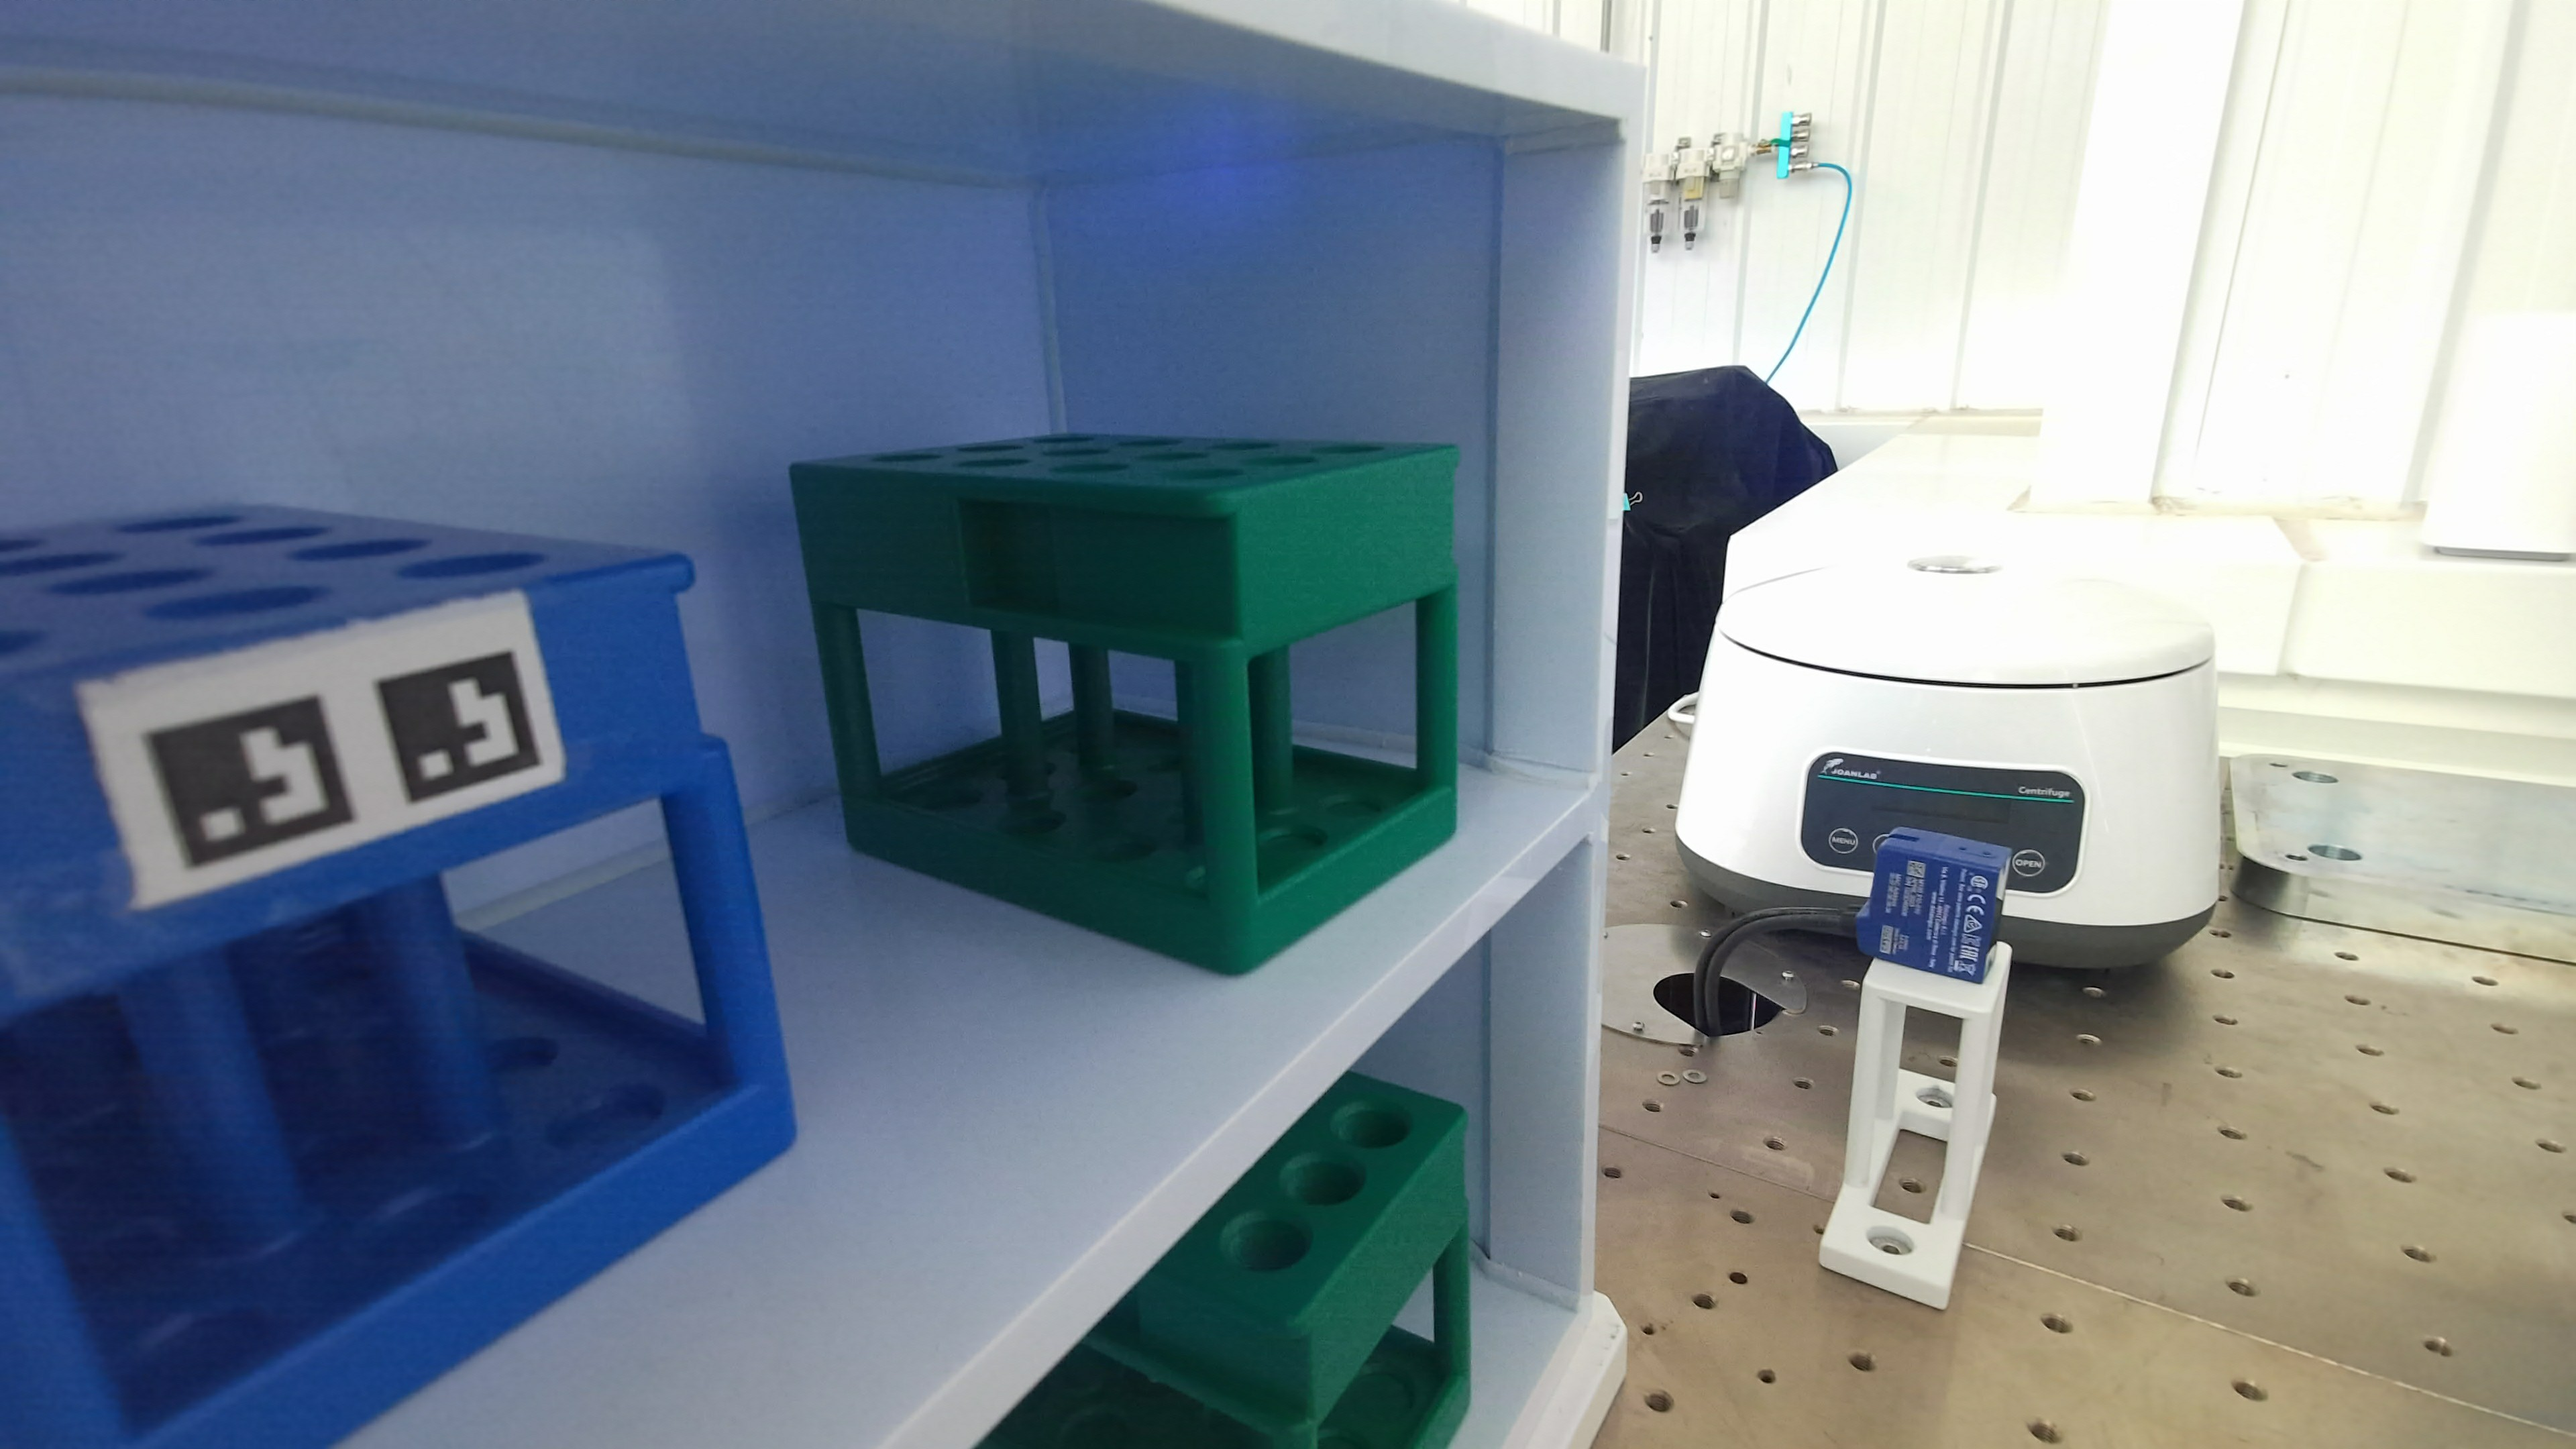10ML_sorting_tube_rack: (0, 506, 794, 1444)
5ML_sorting_tube_rack: (791, 435, 1458, 971), (984, 1074, 1472, 1449)
centrifuge_close: (1677, 557, 2219, 966)
tube_rack_storage_cabinet: (0, 0, 1642, 1445)
